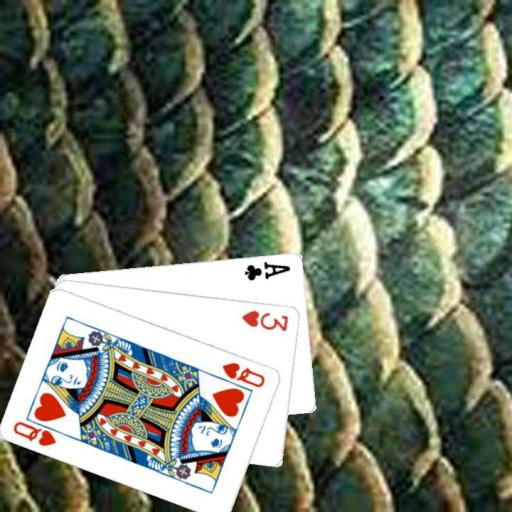3H: (239, 306, 290, 333)
AC: (242, 258, 292, 282)
QH: (10, 413, 68, 448), (219, 359, 267, 389)
